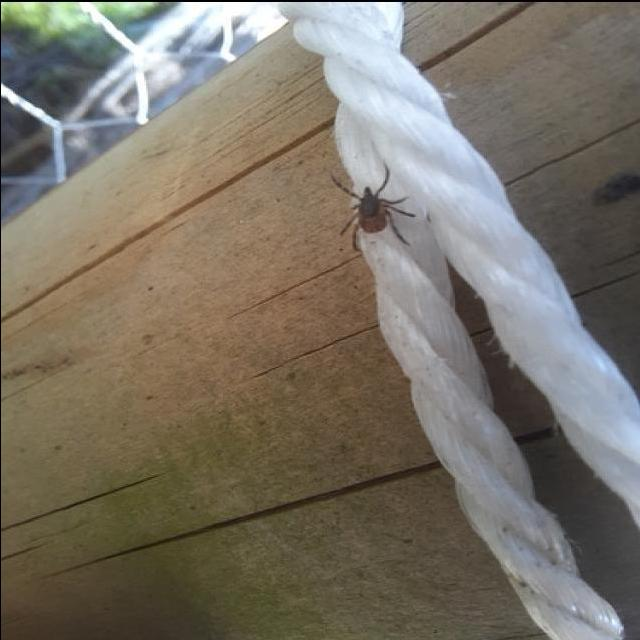Ixodes Ricinus-F: (329, 164, 415, 251)
